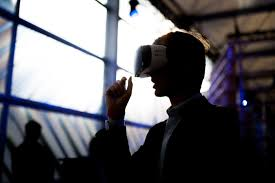oculus: (132, 42, 182, 80)
